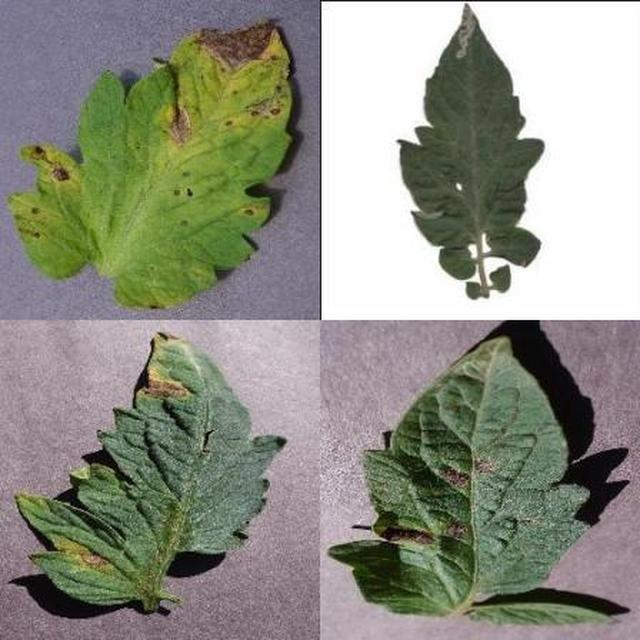Septoria Leaf: (216, 180, 640, 640)
